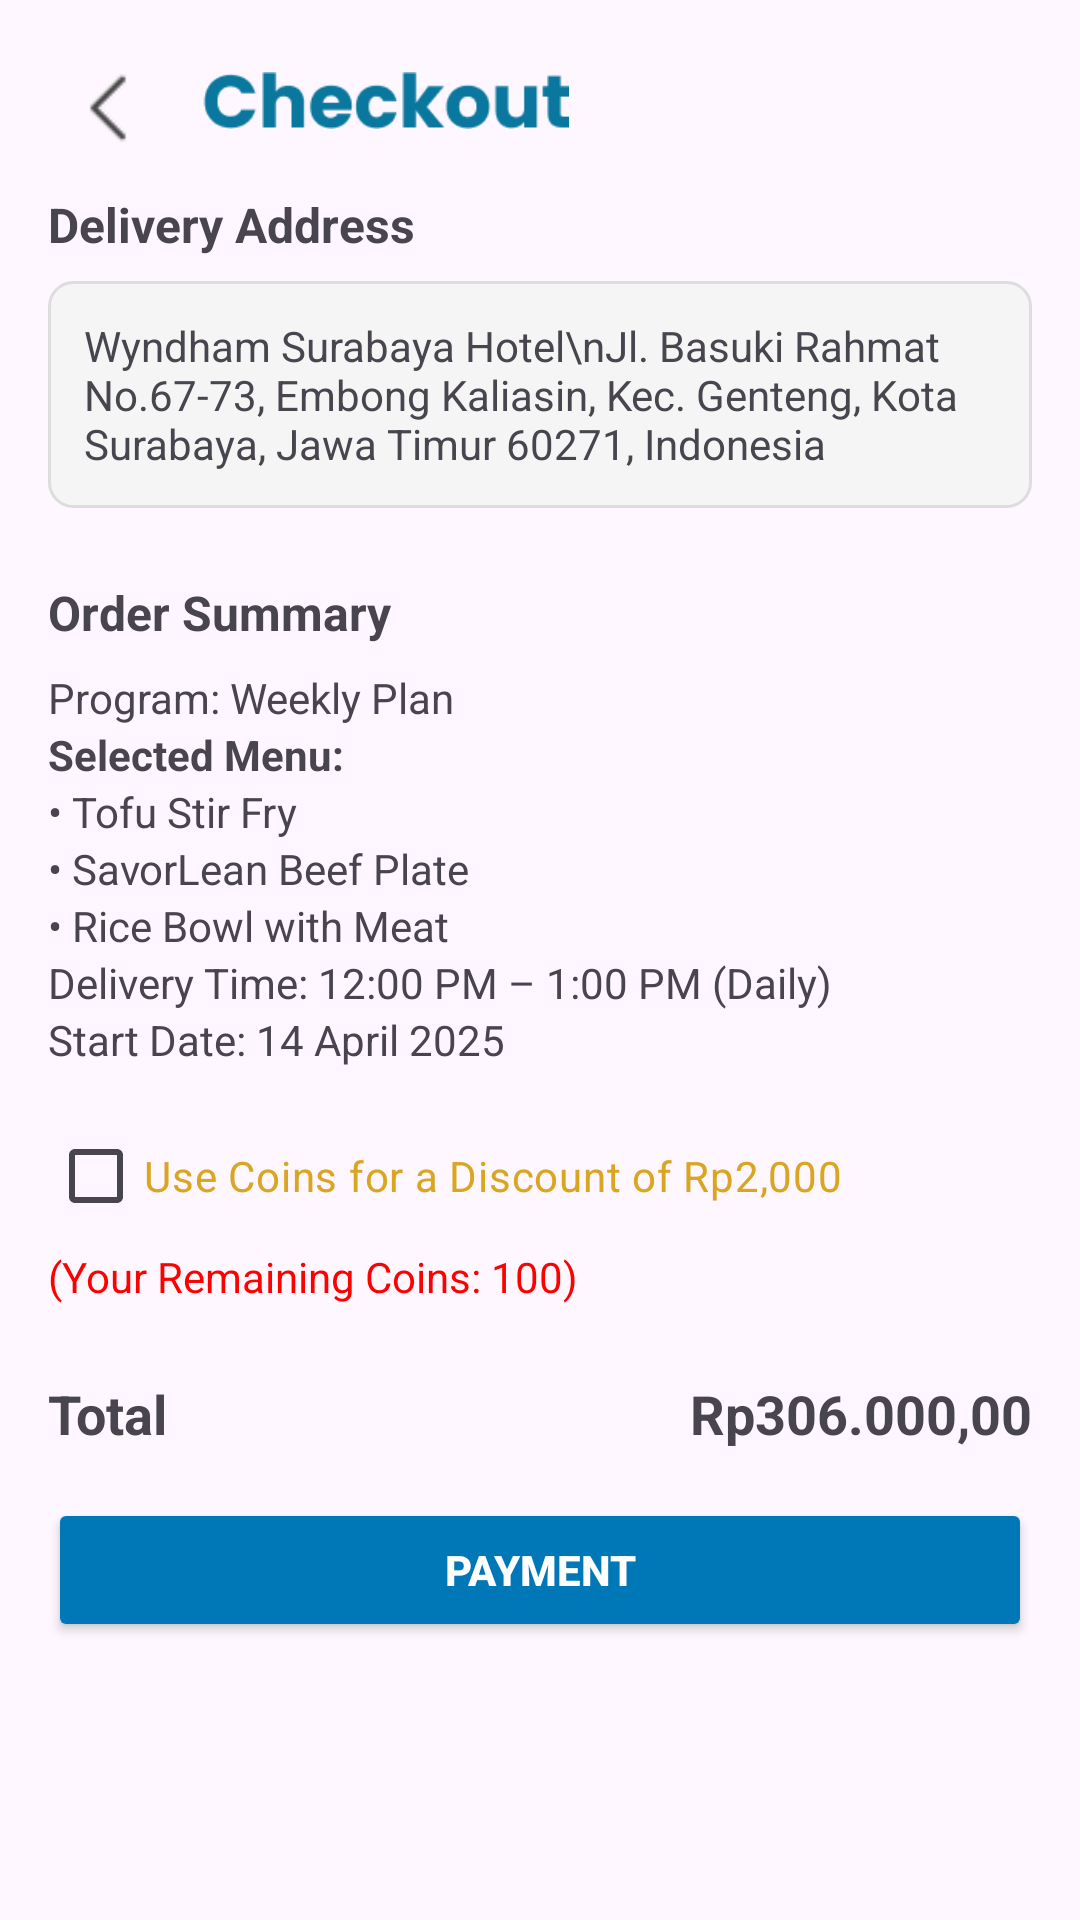

Icon bounding boxes for this 1080×1920 phone screenshot, format rect(x1, y1, x2, y2):
Back: rect(90, 75, 126, 141)
